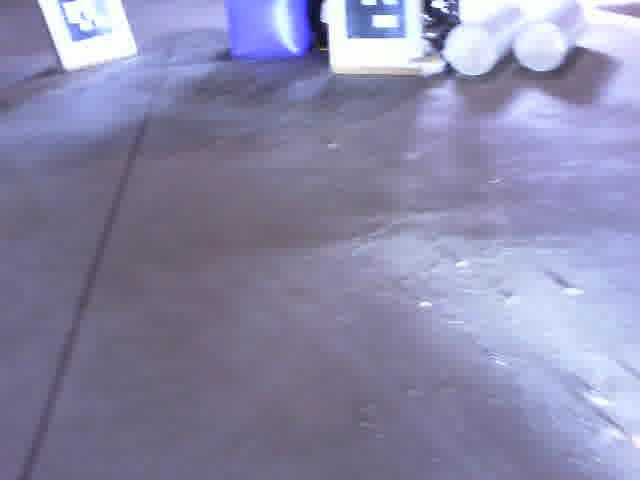coral: (442, 0, 529, 83), (511, 0, 592, 75)
